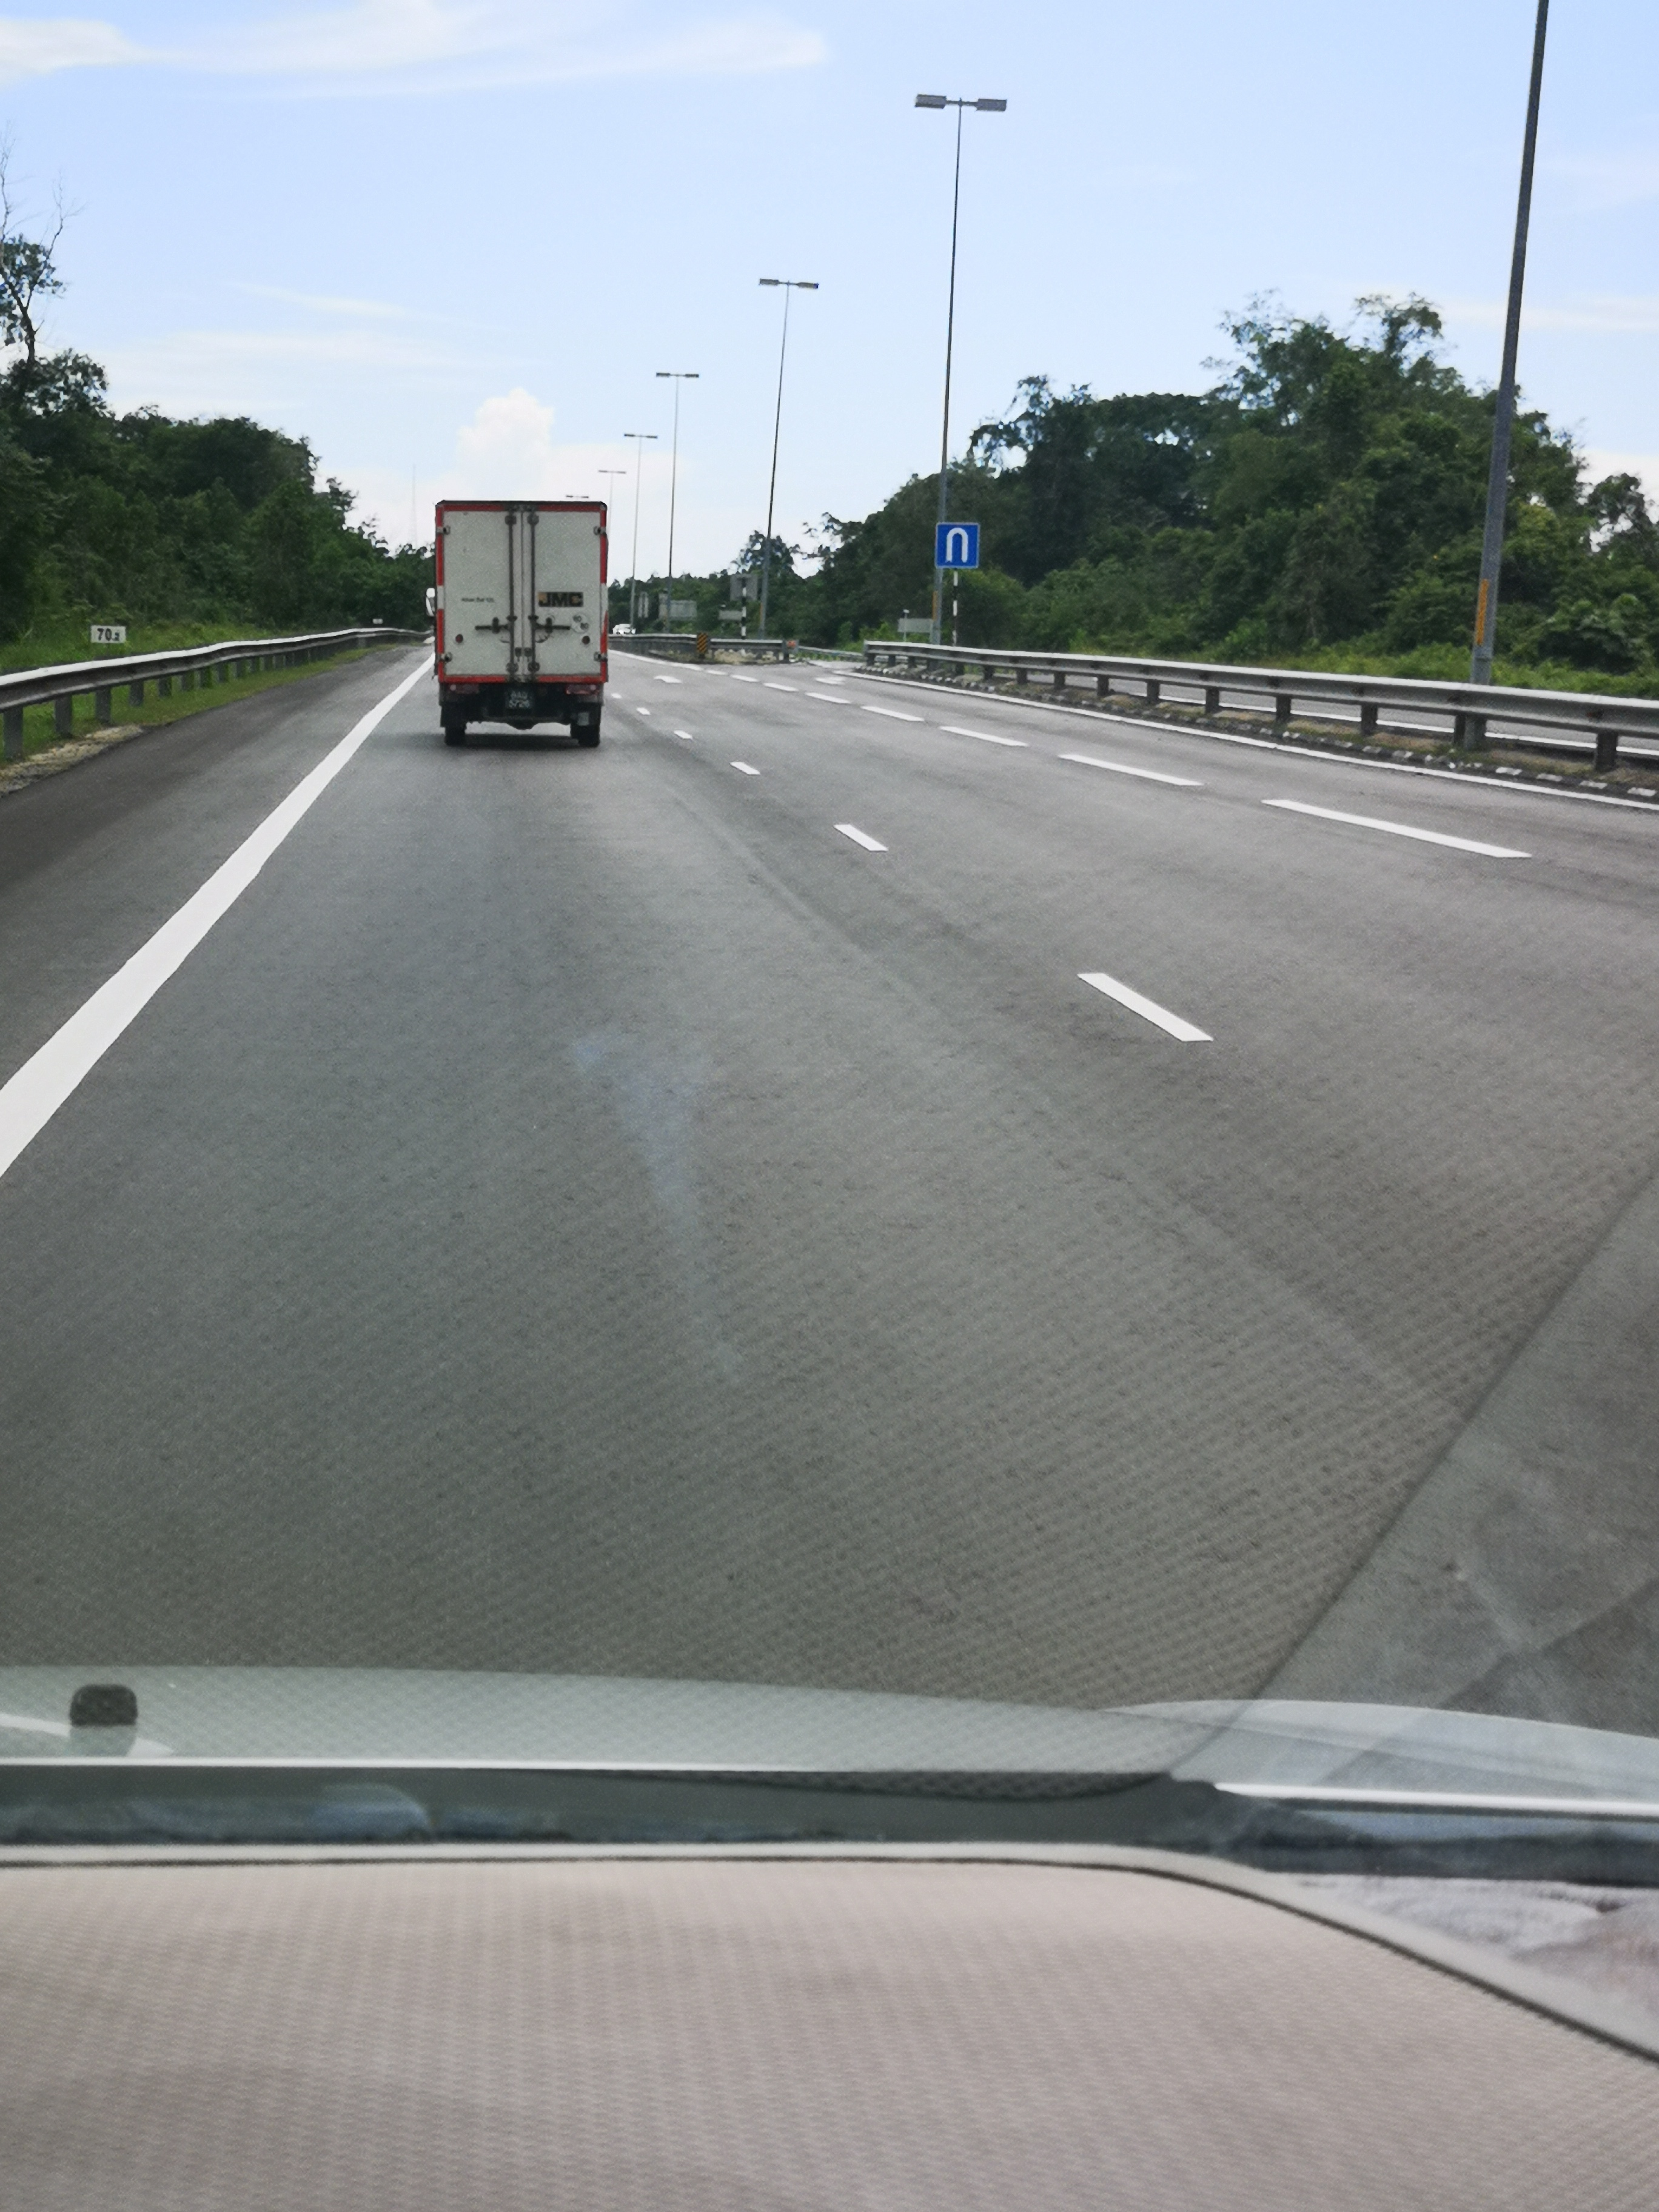U-turn: (931, 519, 981, 571)
